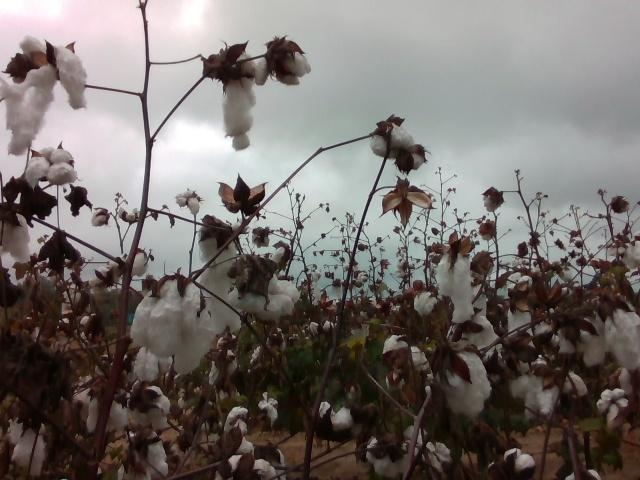cotton_ready: (0, 34, 88, 152), (130, 278, 214, 374), (198, 223, 241, 333), (509, 368, 587, 419), (229, 264, 300, 318), (447, 283, 501, 353), (442, 350, 494, 418), (221, 48, 256, 149), (435, 251, 476, 324), (553, 311, 604, 369), (599, 298, 640, 370), (371, 121, 427, 171), (116, 428, 169, 480), (254, 41, 311, 86), (504, 273, 536, 346), (8, 412, 45, 475), (366, 436, 417, 480), (381, 335, 430, 380), (124, 388, 175, 429), (27, 145, 73, 187), (0, 206, 32, 265), (212, 455, 280, 480), (86, 392, 126, 434), (130, 347, 173, 384), (224, 404, 254, 455), (595, 386, 631, 420), (611, 232, 640, 269), (318, 399, 353, 429), (502, 447, 536, 477), (411, 290, 445, 318), (423, 440, 452, 467)
